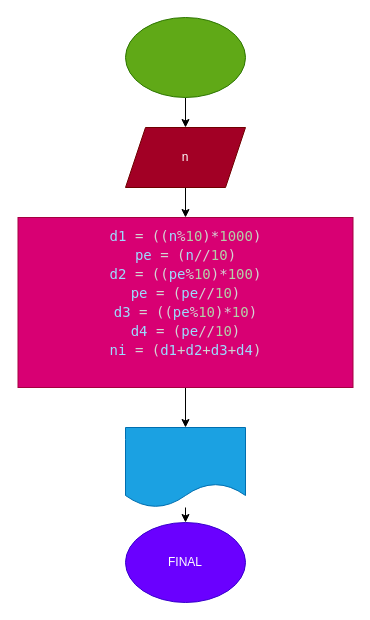
This 370x620 diagram has some shape labels left out. The centre of each missing label's shape, as x and y in pixels:
INICIO: (185,57)
ni: (185,467)
